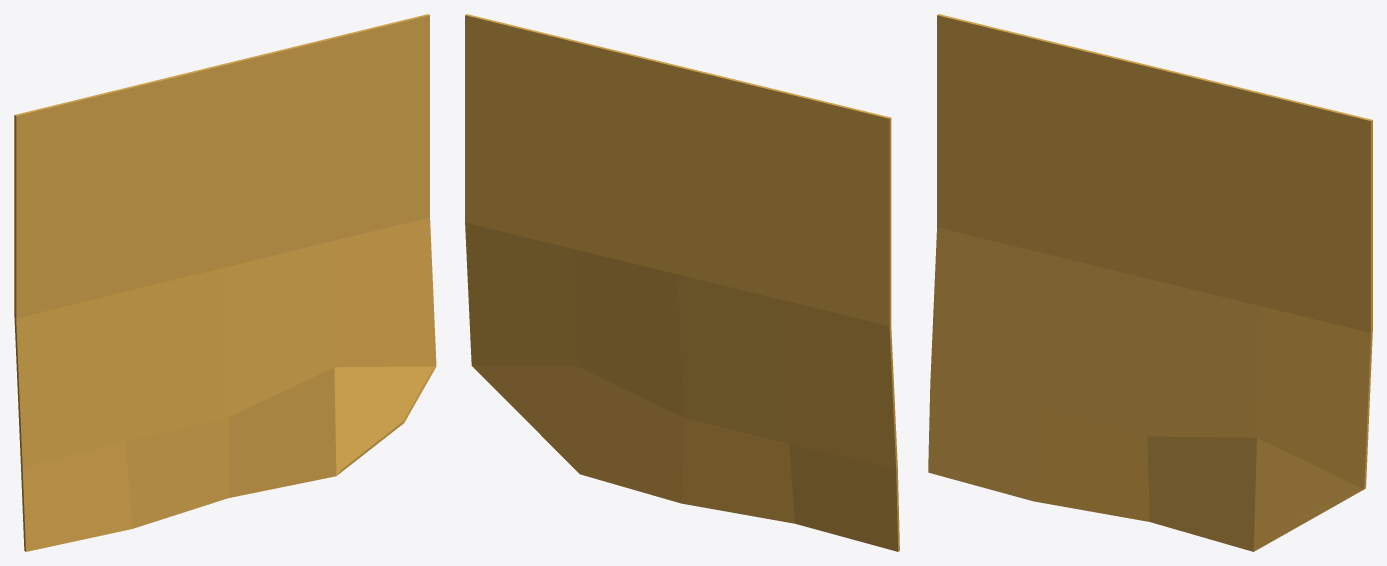
File: Sticker.fbx
The picture shows the model from 3 angles, left to right: view 1: azimuth 30°, elevation 25°; view 2: azimuth 150°, elevation 25°; view 3: azimuth 330°, elevation 25°; orthographic projection. The views are drawn at different scales.
Parts seen in each view (by area): view 1: Plane; view 2: Plane; view 3: Plane.
Part boxes in pixels (x1,y1,x2,y2): Plane: (14,14,436,551); Plane: (465,14,899,551); Plane: (928,14,1372,551).
Bounding box in the file's own units: 200 × 198 × 21.91.
